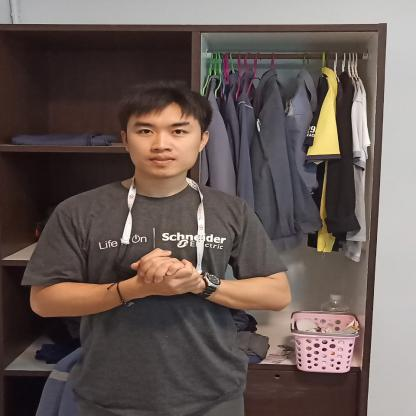Grieve: (118, 240, 230, 311)
